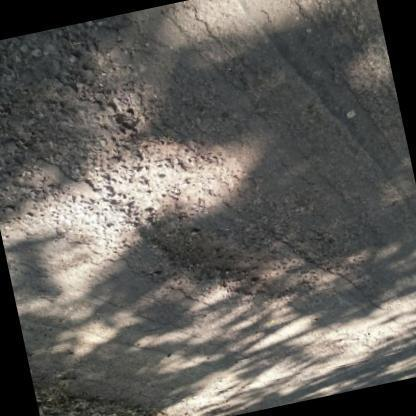pothole: (9, 51, 334, 306)
